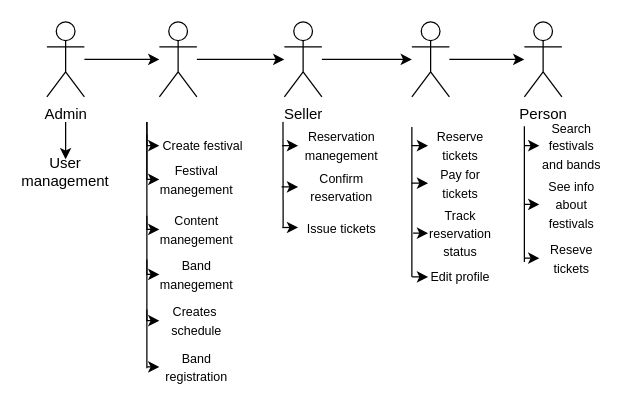
Some shapes in this 625 by 406 pixel diagram are drawn without their labels. Each missing label, with the centre of its shape:
"Organizer" belongs at pixel 177 59.
"User" belongs at pixel 430 59.
